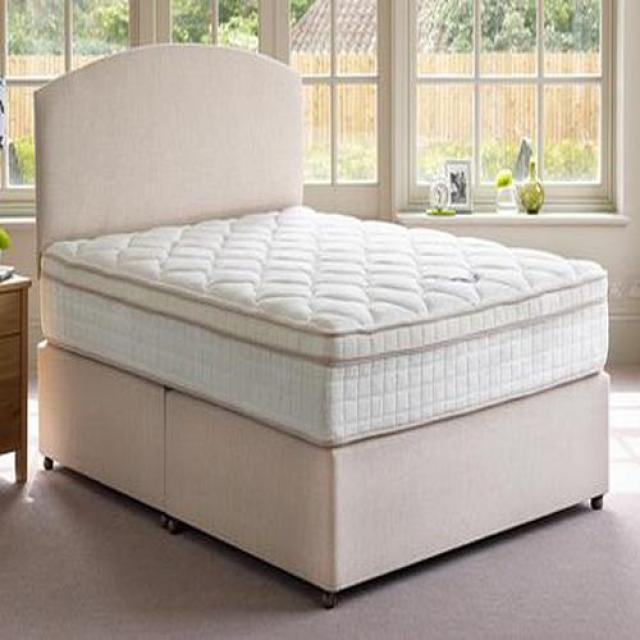bed: (33, 45, 611, 604)
